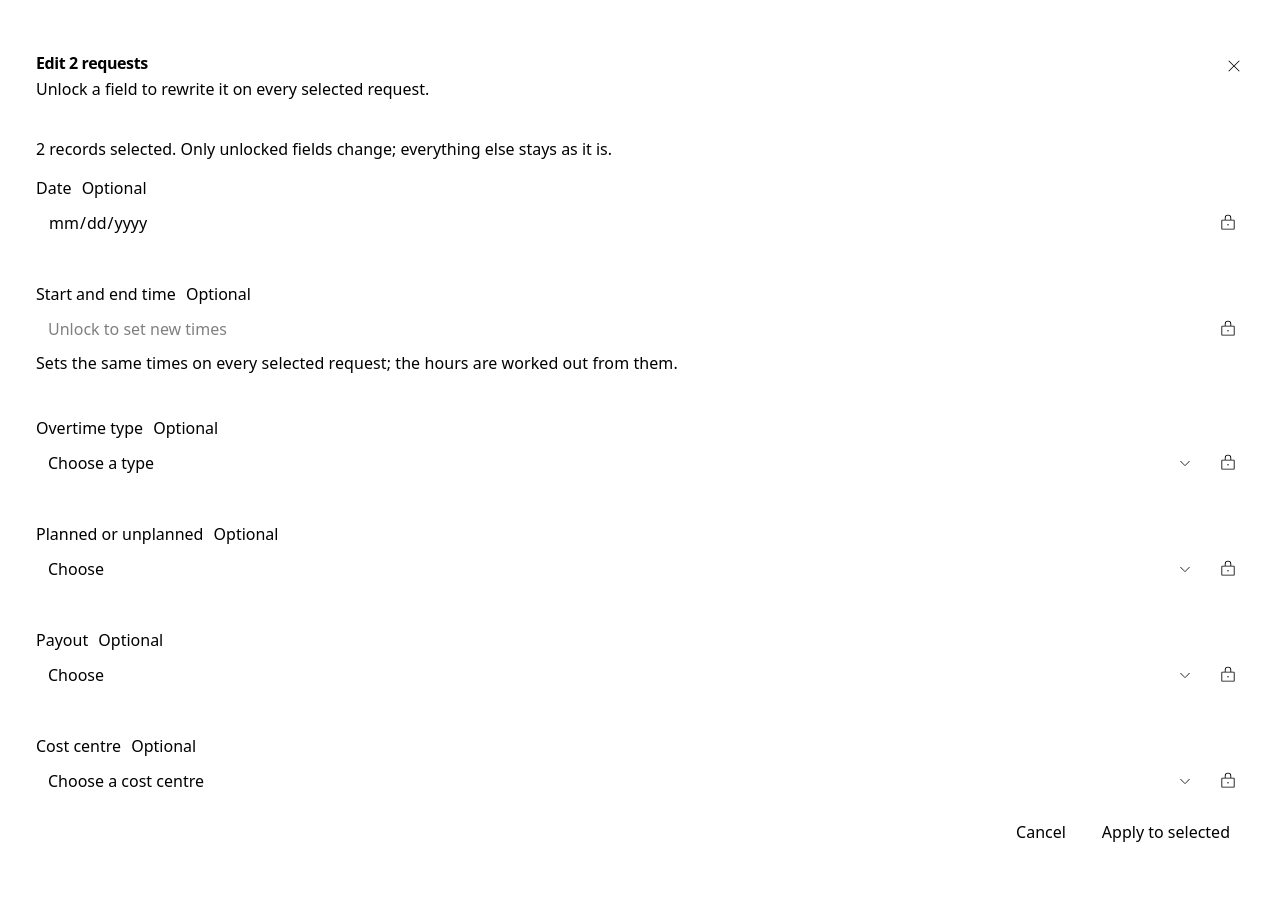
Test: OTBulkEditDialog times › explains a half-filled pair instead of saving
Click the button named "Unlock Start and end time" at (1228, 329), box [1212,313,1244,345]
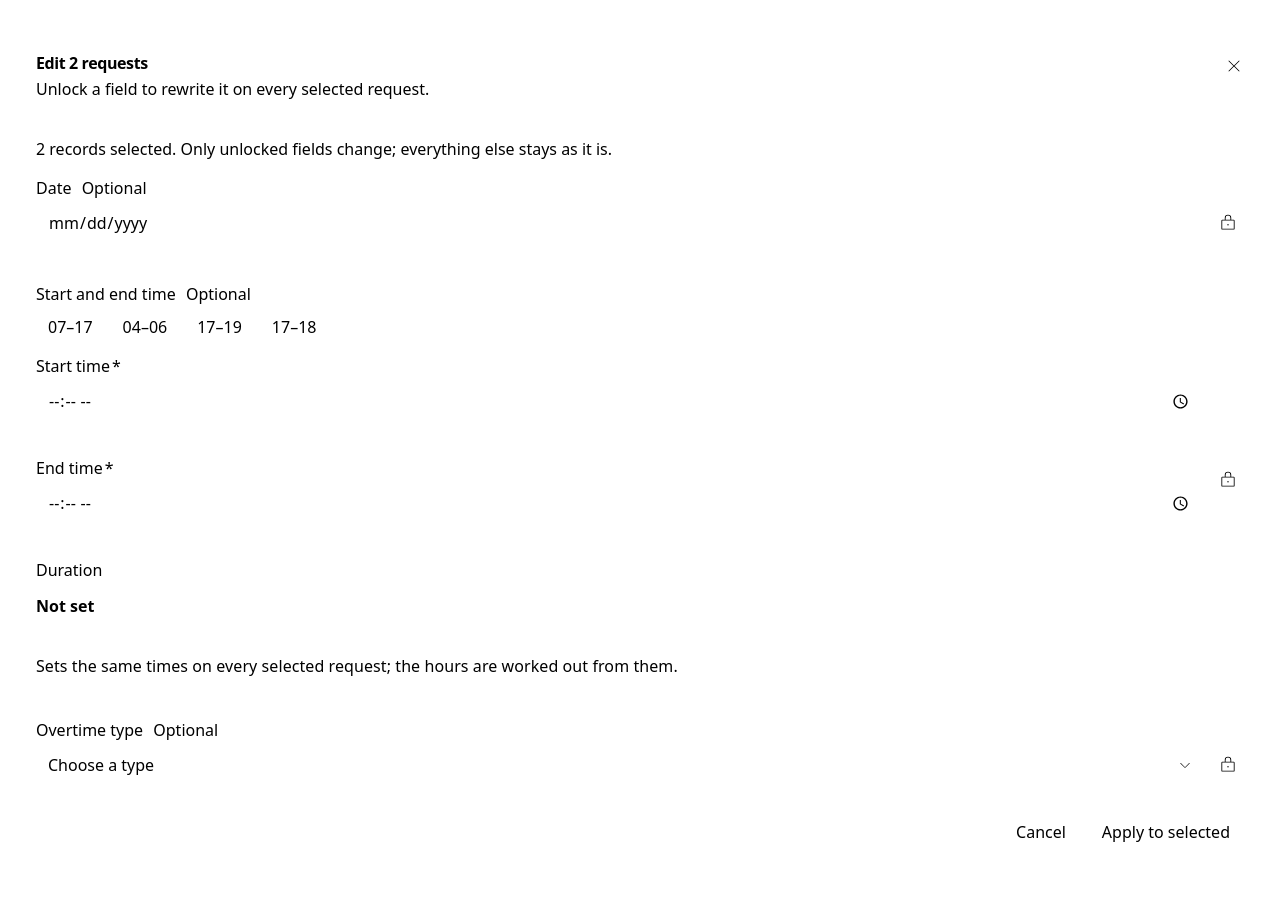
Type "18:00" into the time field labelled "Start time*" at (620, 401), box [36,383,1204,419]
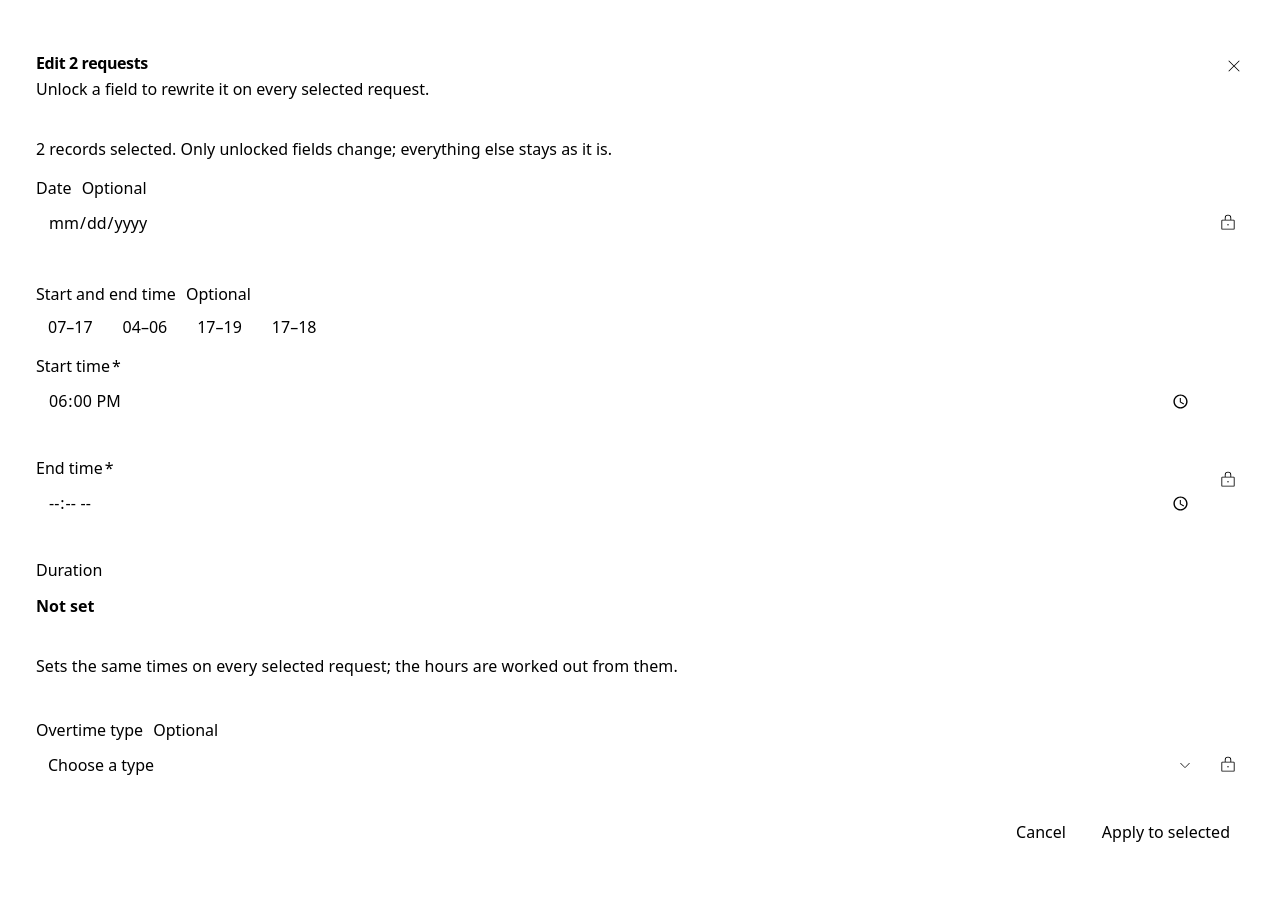
Click the button "Apply to selected" at (1166, 832), box [1088,814,1244,850]
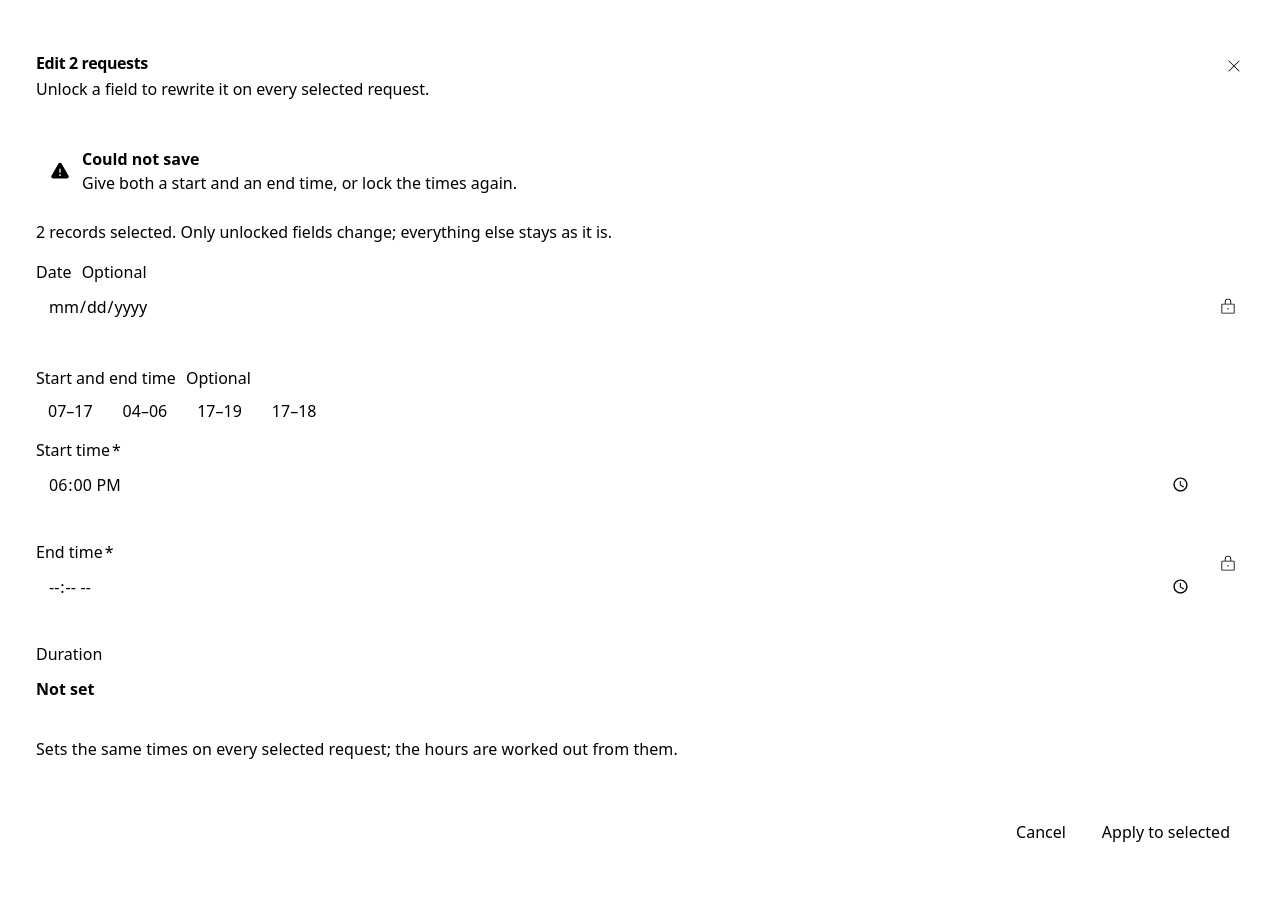
Check: the text "Give both a start and an end time, or lock the times again." is shown, box [82,172,517,194]
